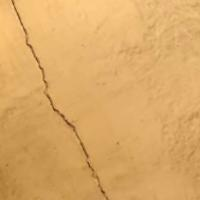crack: (5, 1, 113, 199)
